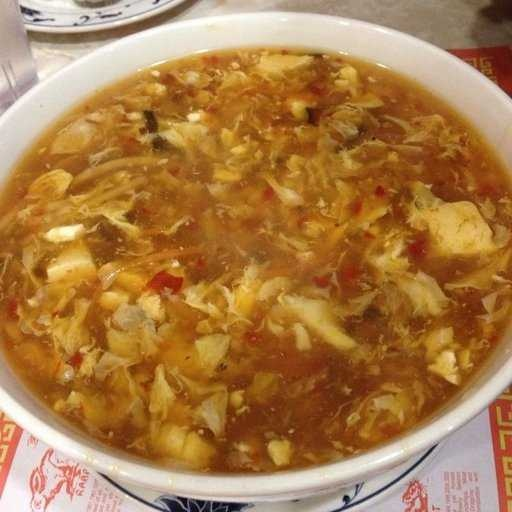soup: (1, 43, 492, 478)
